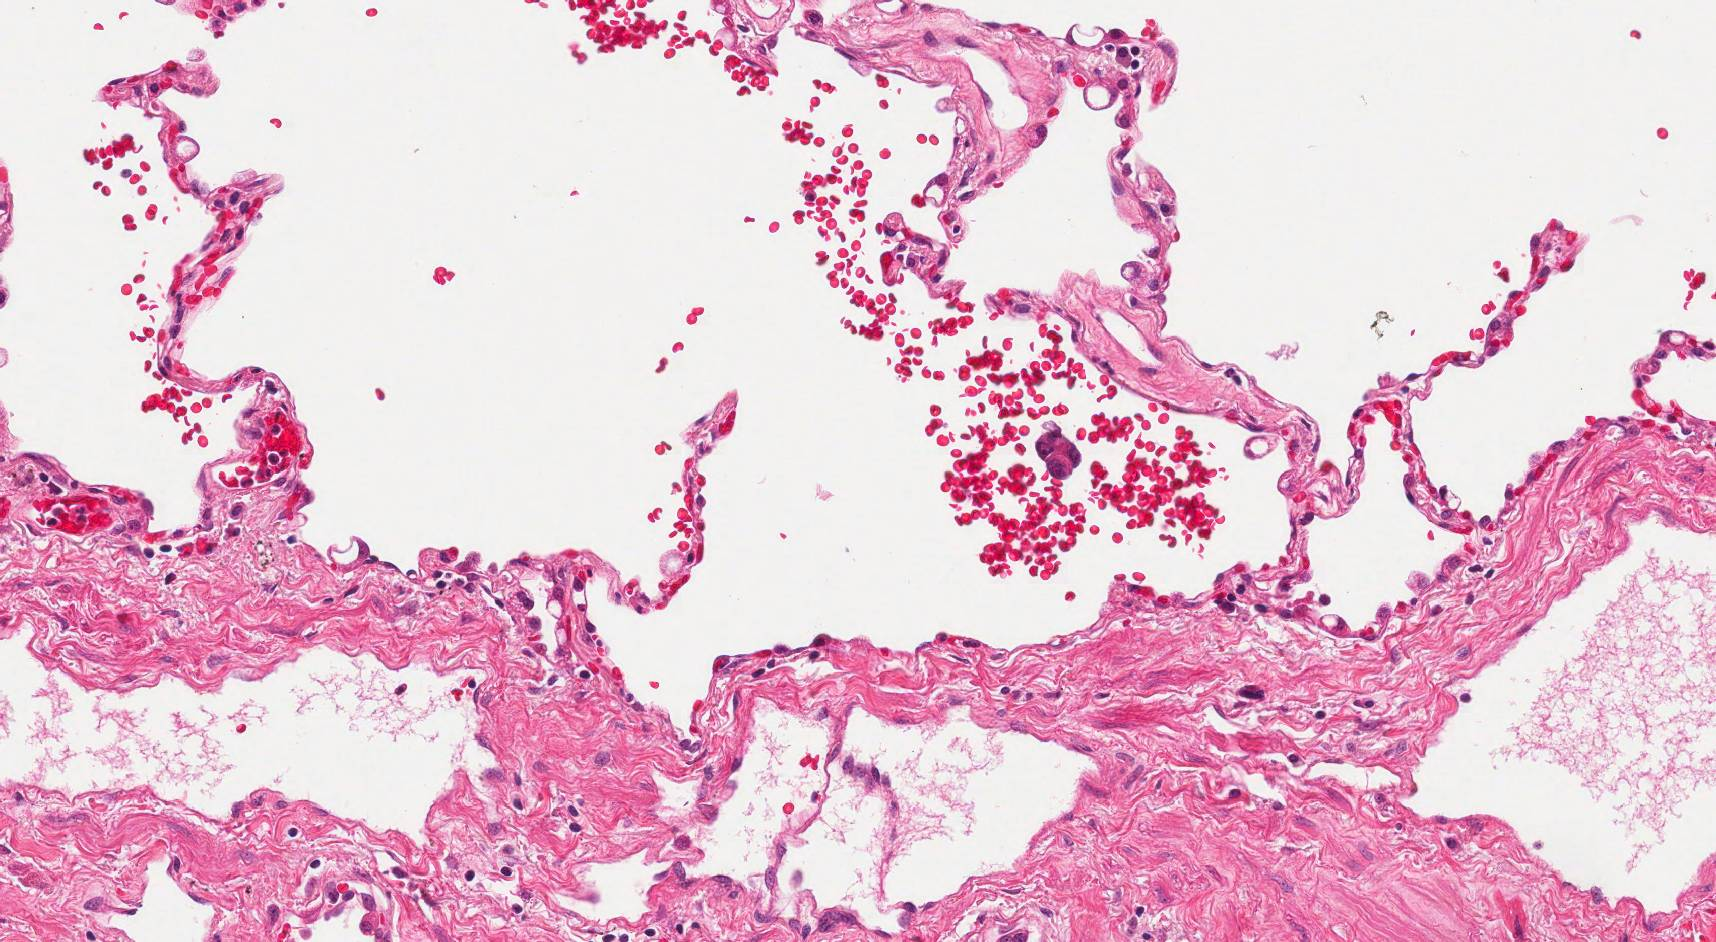stas: (1034, 426, 1082, 478)
